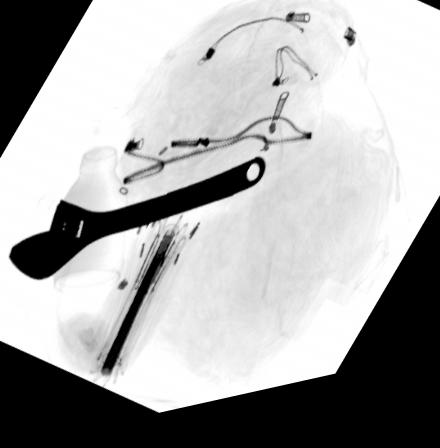Wrench: (6, 167, 268, 282)
